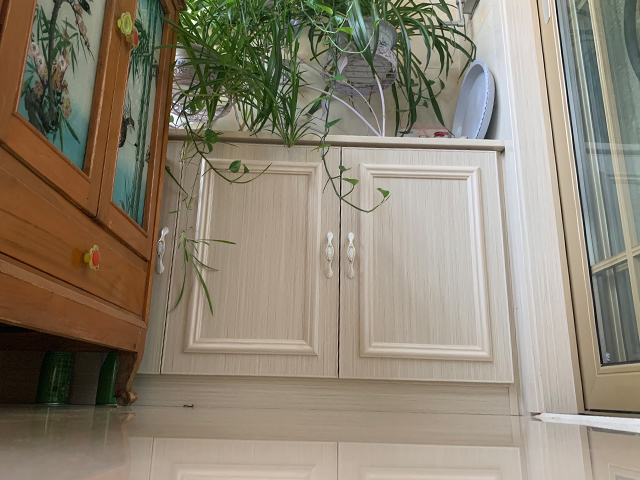cabinet: (125, 126, 525, 415), (1, 1, 189, 408)
